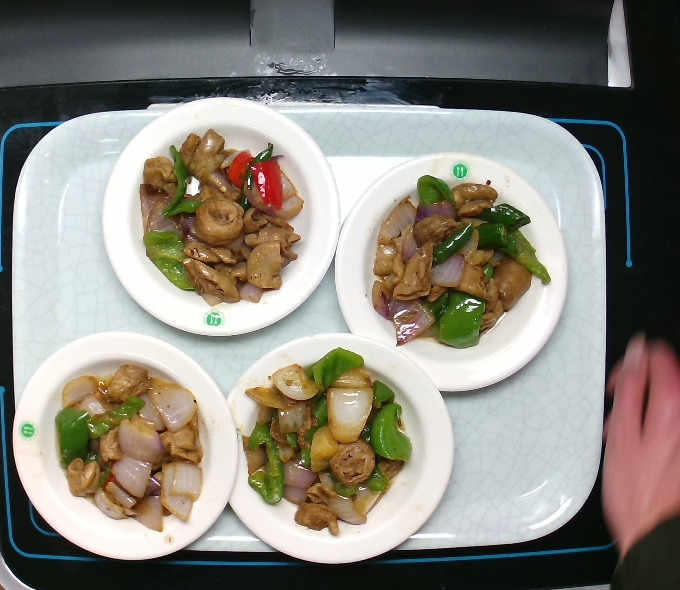wcq-QingJiaoChaoDaChang: (127, 126, 314, 307), (367, 170, 554, 351), (231, 349, 418, 530), (37, 355, 224, 536)
